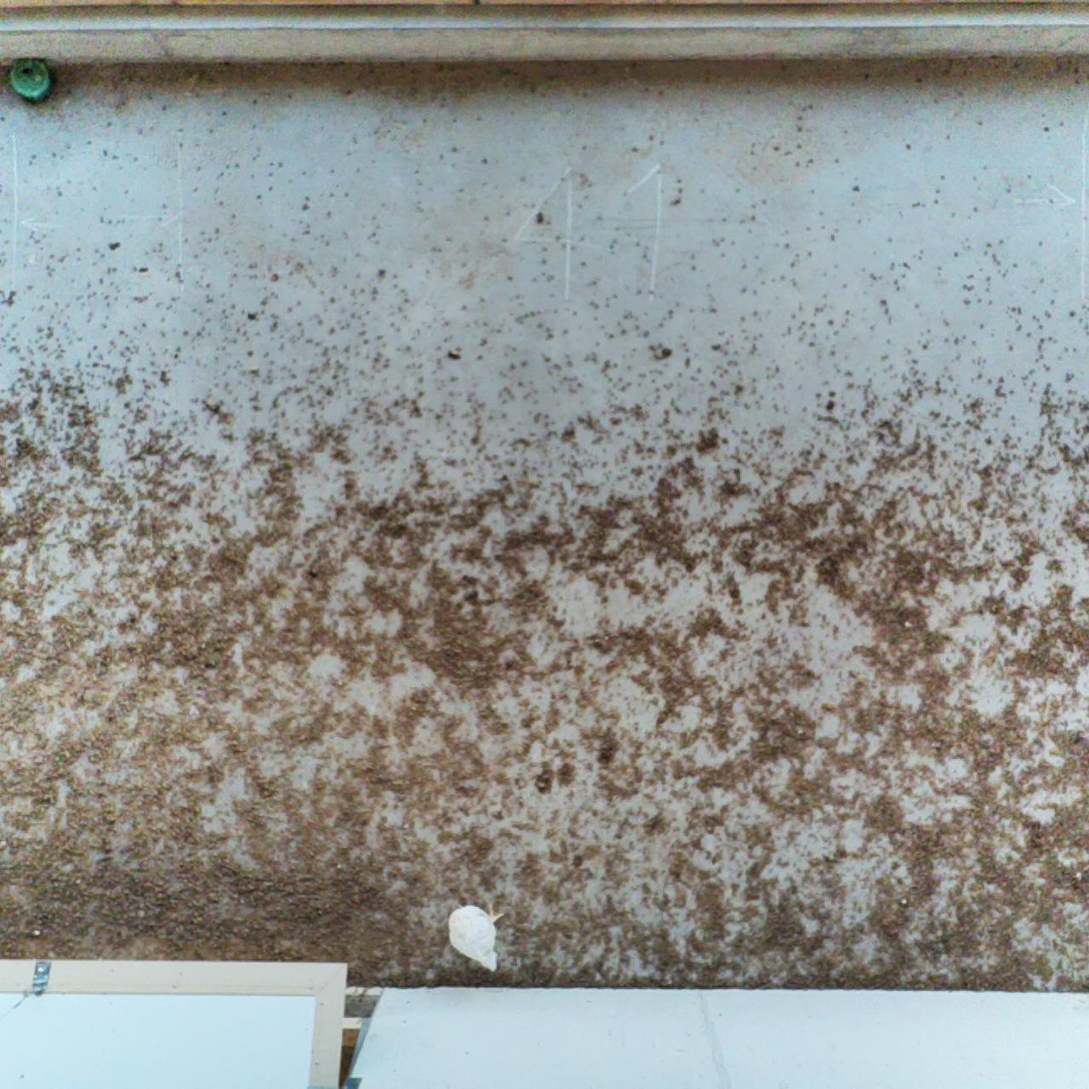chicken: (446, 898, 502, 974)
